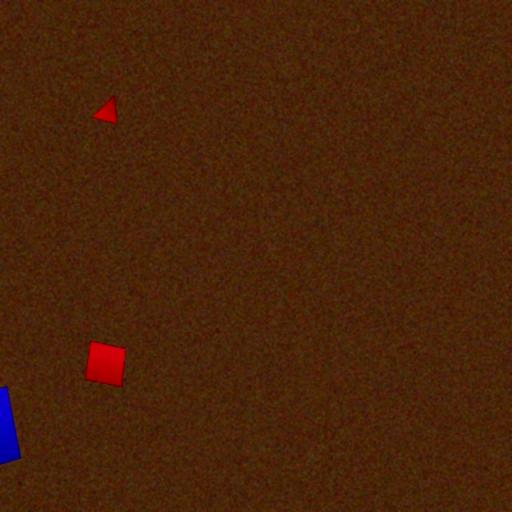RED_SQUARE: (84, 340, 126, 387)
